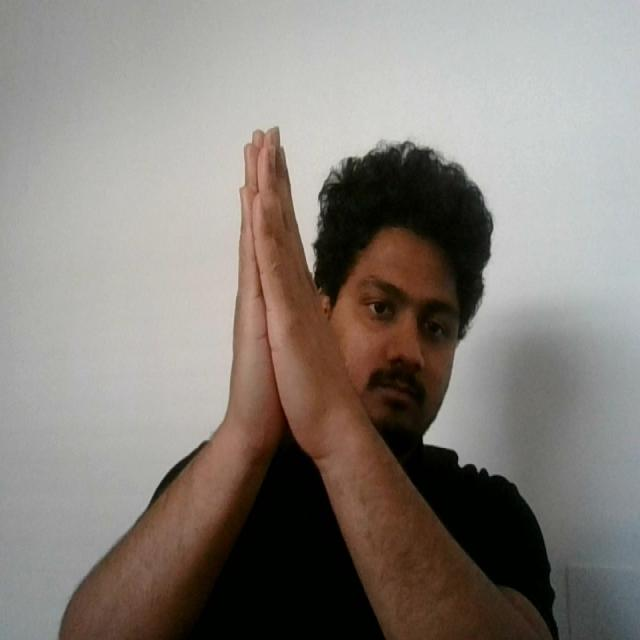Thanks: (220, 118, 355, 473)
